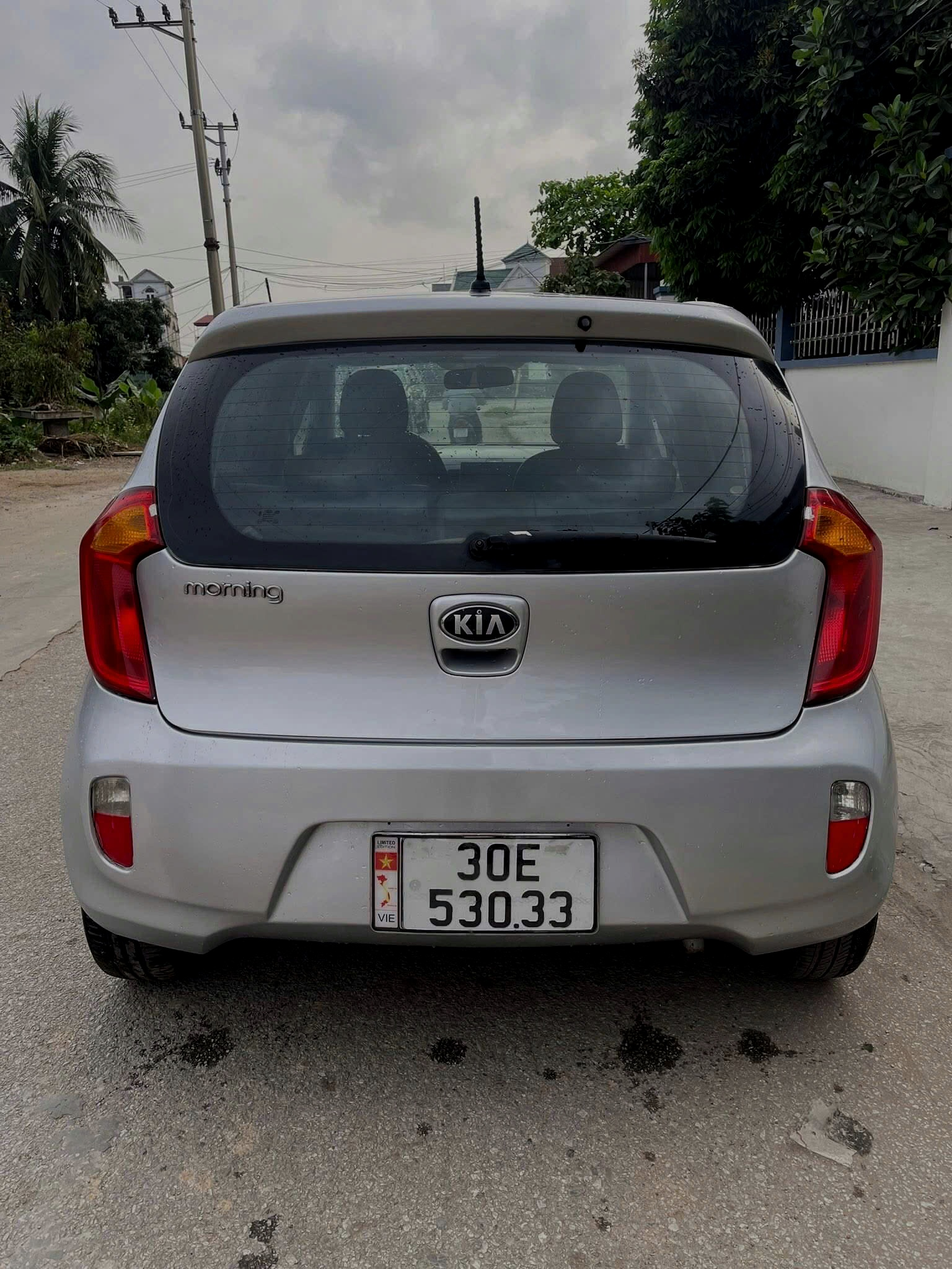Bien-so: (368, 854, 558, 959)
